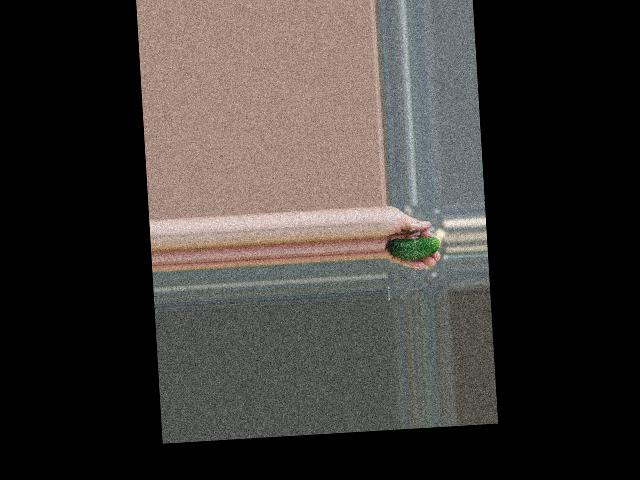cucumber: (386, 236, 439, 261)
